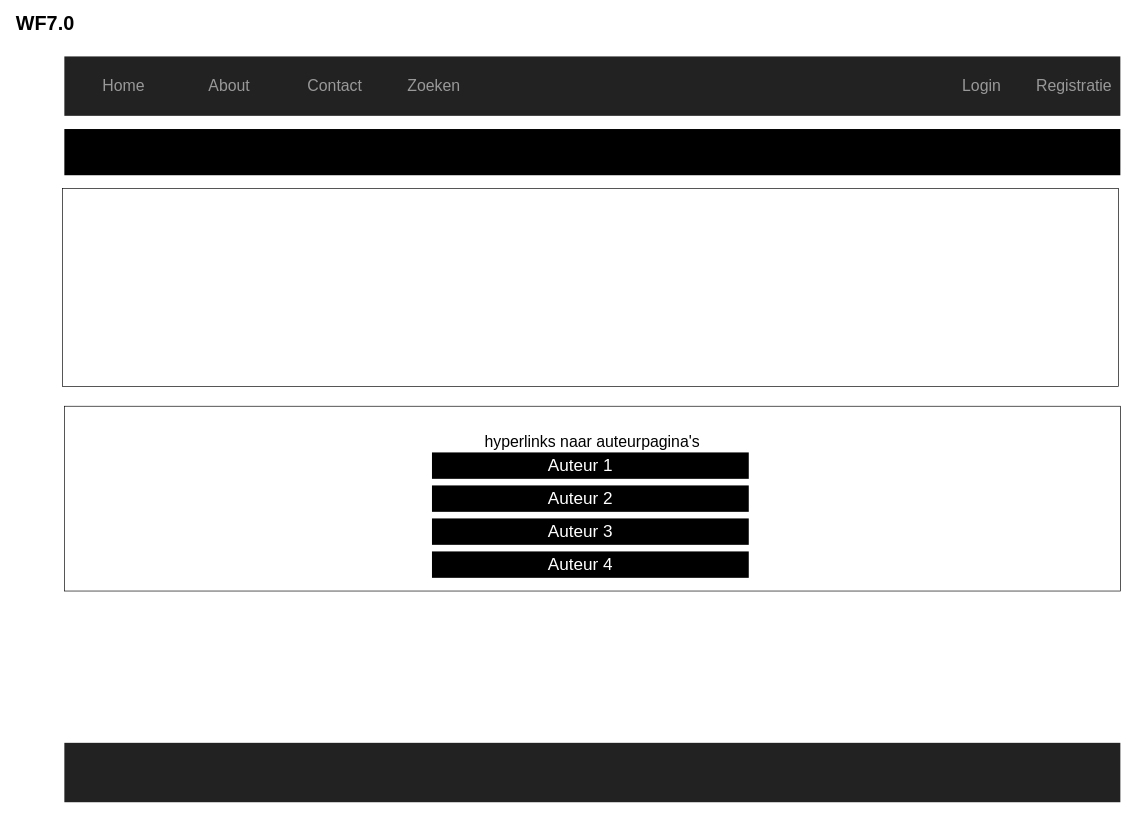
Some shapes in this 1132 by 813 pixel diagram are drawn without their labels. The box of each missing label's shape, as (x1, y1, x2, y2) in pixels:
Algemene beschrijving about: (62, 188, 1118, 386)
Footer tekst: (64, 742, 1120, 802)
Paginatitel about: (64, 129, 1120, 175)
